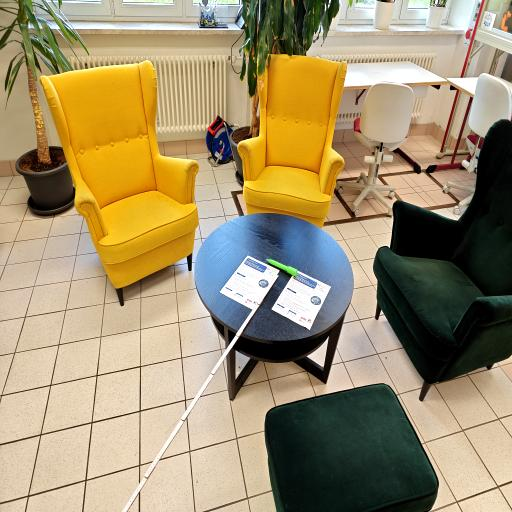Probe-Detection: (266, 259, 298, 276)
